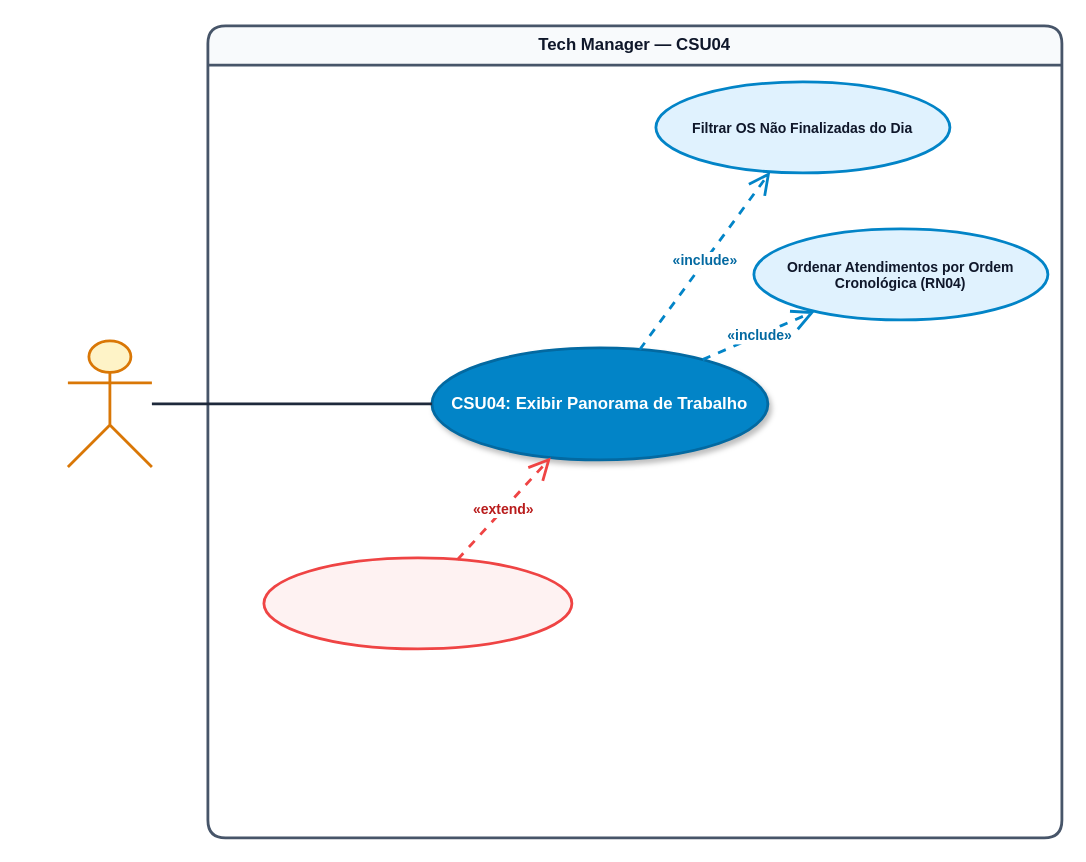
This 1086x862 diagram has some shape labels left out. The shapes that lost their labels are listed below. From the top down, each one's centre as x and y in pixels, then its label:
At point (109, 403): "Técnico (Ator Primário)".
At point (417, 603): "Exibir Mensagem de Agenda Livre (Sem Pendências do Dia)".
